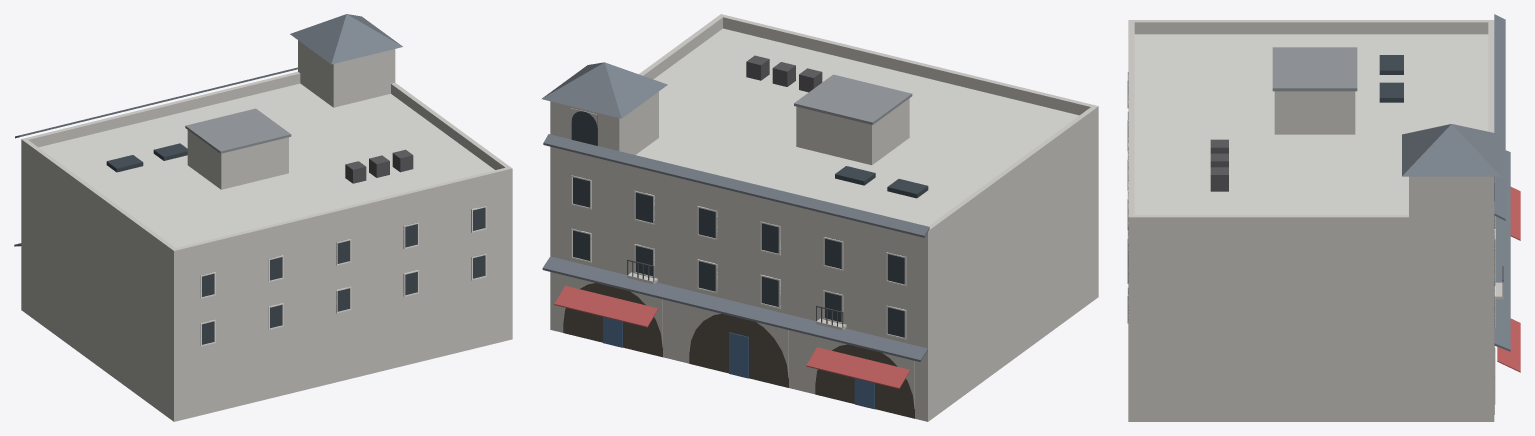
The model's file is ca_mainstreet3.glb.
3 renders of one model, left to right at view 1: azimuth 30°, elevation 25°; view 2: azimuth 150°, elevation 25°; view 3: azimuth 270°, elevation 25°, orthographic. The views are drawn at different scales.
Visible parts, largest first — view 1: ca_mainstreet3; view 2: ca_mainstreet3; view 3: ca_mainstreet3.
Boxes of the visible parts, x1,y1,x2,y2 form: ca_mainstreet3: (14, 14, 512, 421); ca_mainstreet3: (542, 14, 1098, 421); ca_mainstreet3: (1127, 14, 1520, 421).
Bounding box in the file's own units: 23.45 × 15.2 × 19.36.
